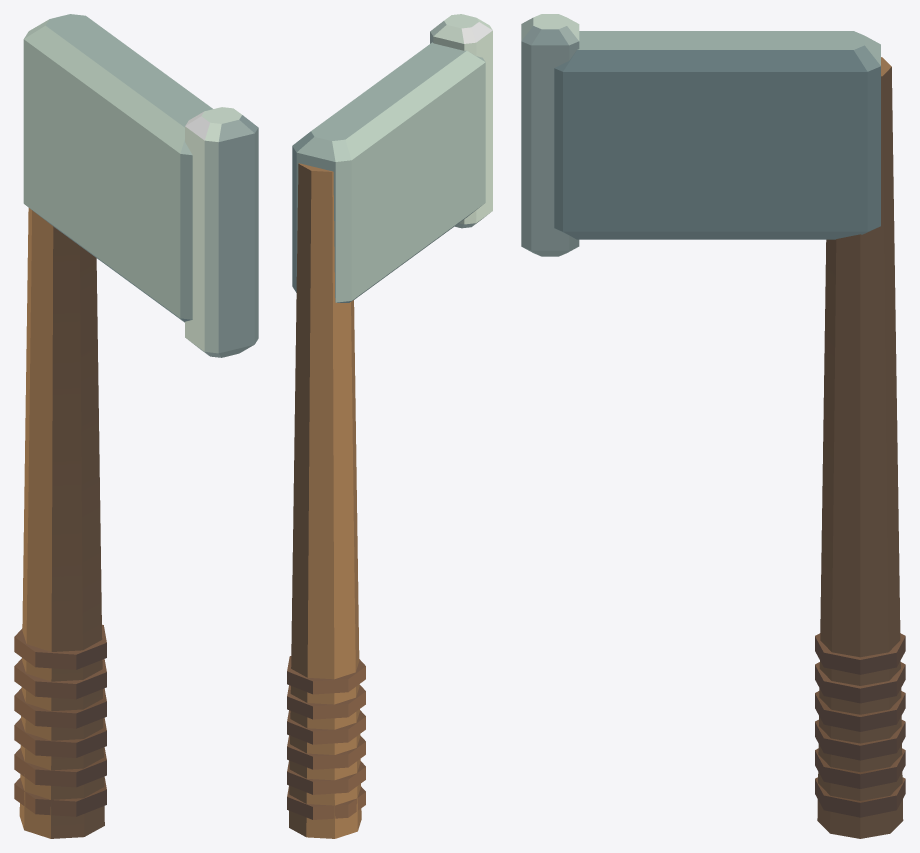
Rendered from star_axe.glb.
3 views of the same model, side by side, from view 1: azimuth 30°, elevation 25°; view 2: azimuth 150°, elevation 25°; view 3: azimuth 270°, elevation 25° (orthographic). The views are drawn at different scales.
Visible parts, largest first — view 1: star_axe; view 2: star_axe; view 3: star_axe.
Part boxes in pixels (<box>): star_axe: <box>14,14,258,838</box>; star_axe: <box>287,14,492,838</box>; star_axe: <box>521,14,905,838</box>.
Bounding box in the file's own units: 0.071 × 0.6995 × 0.3051.
